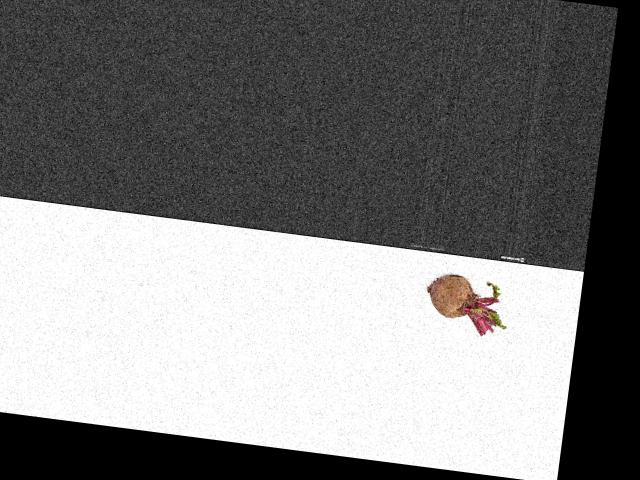beet: (421, 271, 512, 339)
